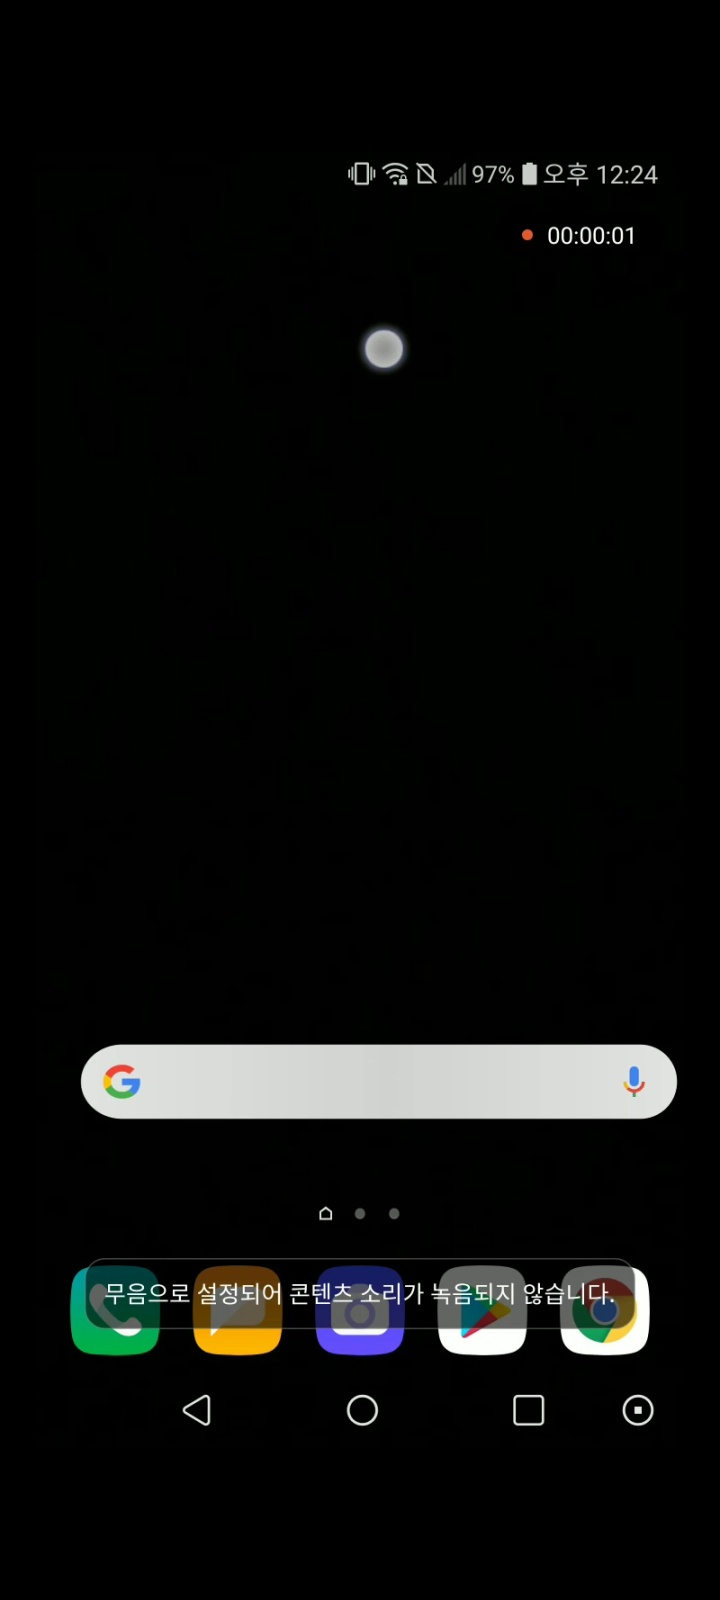Cursor: (361, 327, 406, 372)
